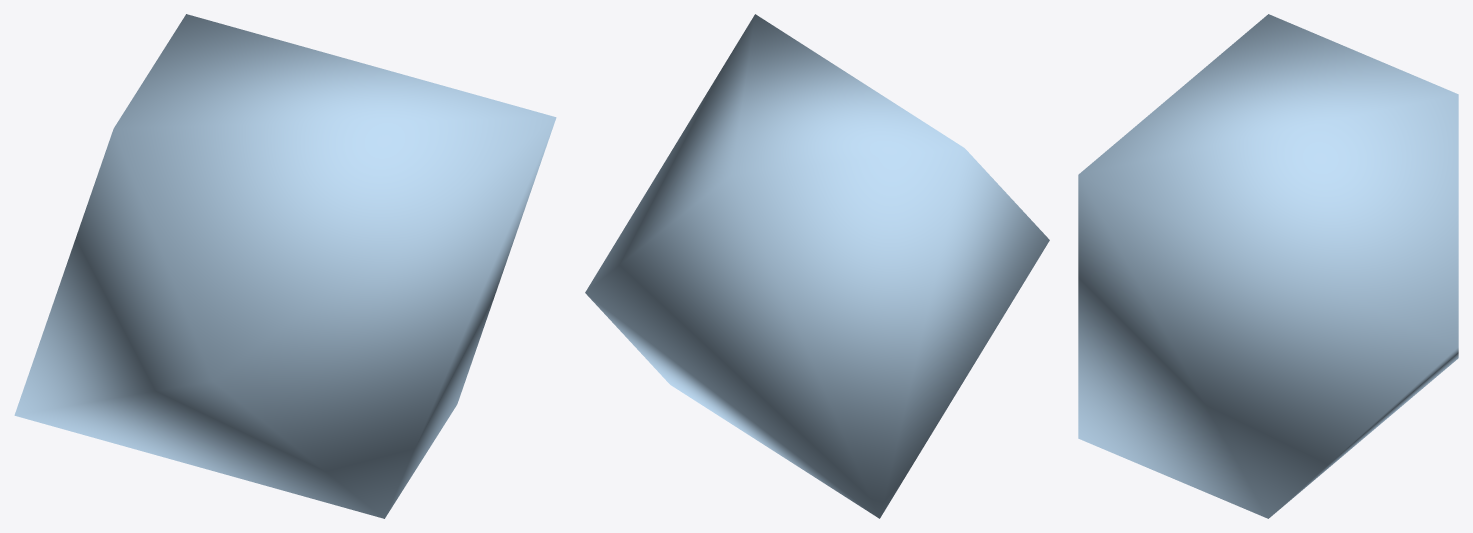
Rendered from diamond-macle.glb.
The picture shows the model from 3 angles, left to right: view 1: azimuth 30°, elevation 25°; view 2: azimuth 150°, elevation 25°; view 3: azimuth 270°, elevation 25°; orthographic projection. The views are drawn at different scales.
Parts seen in each view (by area): view 1: diamond-macle; view 2: diamond-macle; view 3: diamond-macle.
Part boxes in pixels (bbox=[...]): diamond-macle: bbox=[14, 14, 556, 518]; diamond-macle: bbox=[585, 14, 1049, 518]; diamond-macle: bbox=[1078, 14, 1458, 518].
Size of the model in its own units: 0.6 by 0.6 by 0.6.
